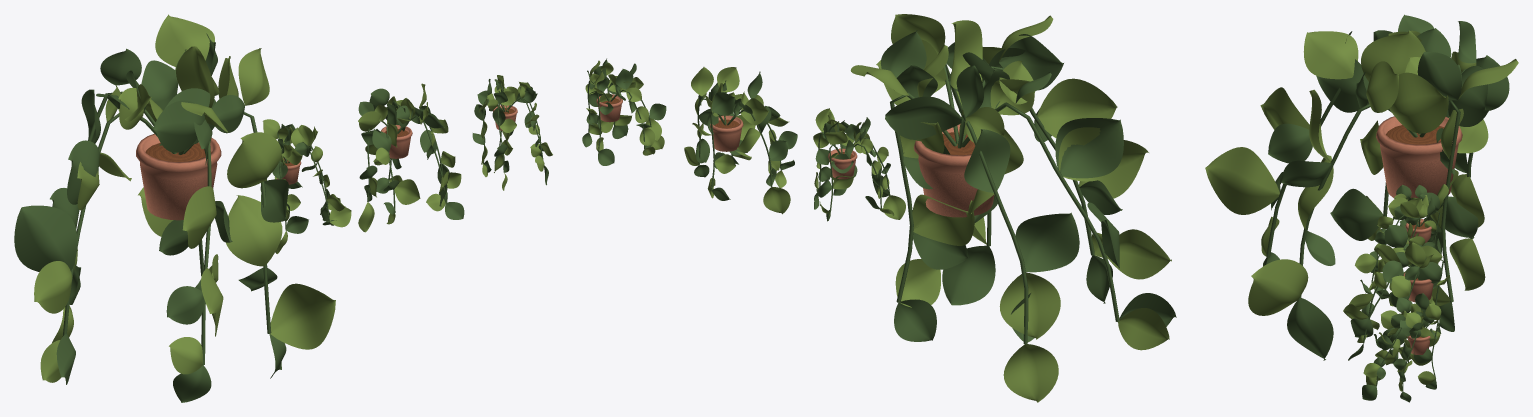
The model's file is plants.glb.
The picture shows the model from 3 angles, left to right: view 1: azimuth 30°, elevation 25°; view 2: azimuth 150°, elevation 25°; view 3: azimuth 270°, elevation 25°; orthographic projection. The views are drawn at different scales.
Parts seen in each view (by area): view 1: plant (×4); view 2: plant (×4); view 3: plant (×4).
Part boxes in pixels (x1=…): plant (×4): x1=14, y1=14, x2=552, y2=402; plant (×4): x1=582, y1=14, x2=1176, y2=402; plant (×4): x1=1205, y1=14, x2=1518, y2=402.
Size of the model in its own units: 6.31 by 3.51 by 3.21.
4 materials, 2 textured.
